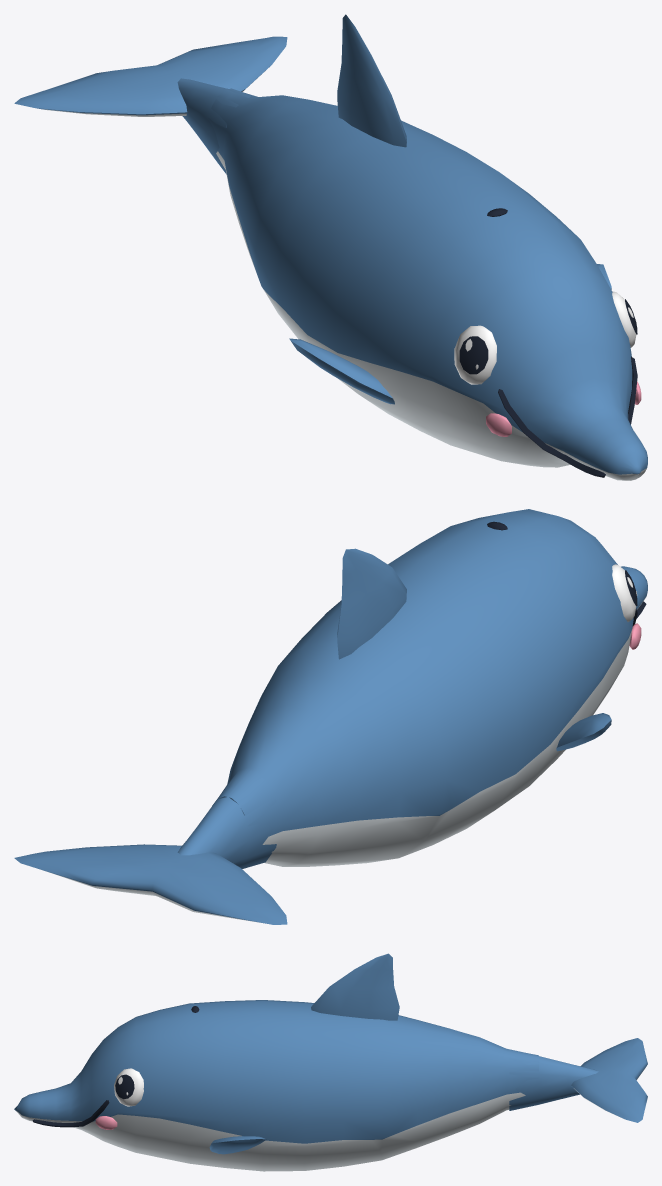
Rendered from dolphin.glb.
3 views of the same model, one above another, from view 1: azimuth 30°, elevation 25°; view 2: azimuth 150°, elevation 25°; view 3: azimuth 270°, elevation 25° (orthographic). The views are drawn at different scales.
Visible parts, largest first — view 1: body, tail; view 2: body, tail; view 3: body, tail.
Boxes of the visible parts, bbox=[...] form: body: bbox=[208, 14, 647, 480]; tail: bbox=[14, 36, 287, 174]; body: bbox=[212, 509, 647, 866]; tail: bbox=[14, 770, 287, 924]; body: bbox=[14, 953, 538, 1171]; tail: bbox=[509, 1038, 647, 1122].
Size of the model in its own units: 0.8001 by 0.8031 by 2.2.
